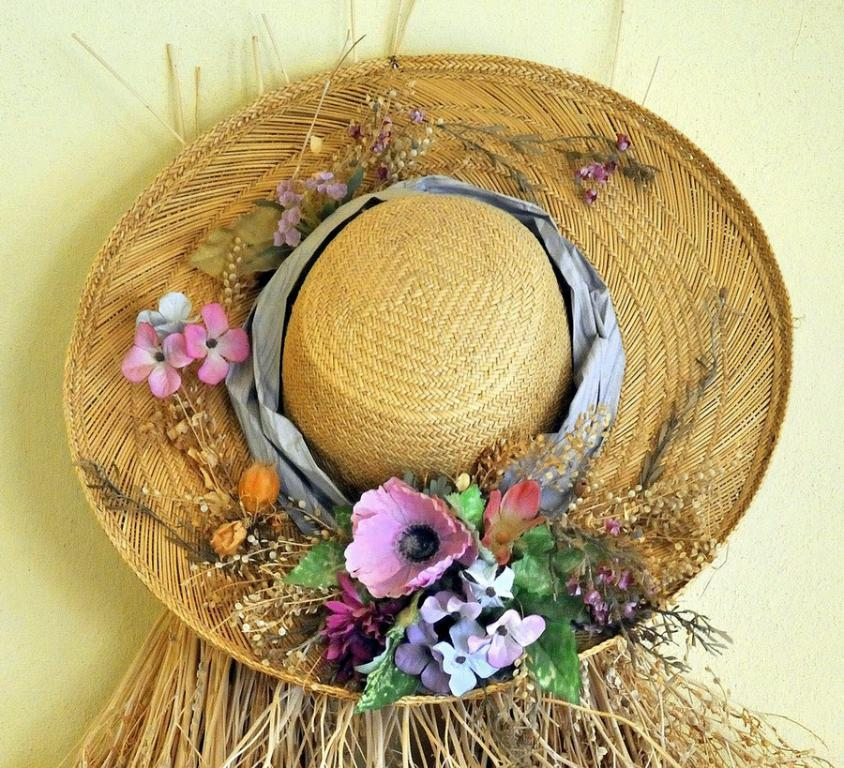Hat: (65, 48, 794, 712)
